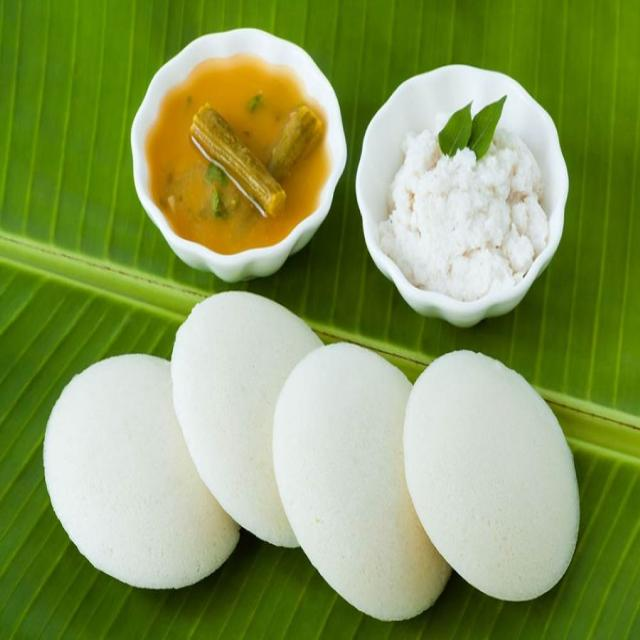idli: (264, 336, 447, 614), (48, 351, 241, 606), (161, 280, 340, 553), (403, 348, 581, 601)
